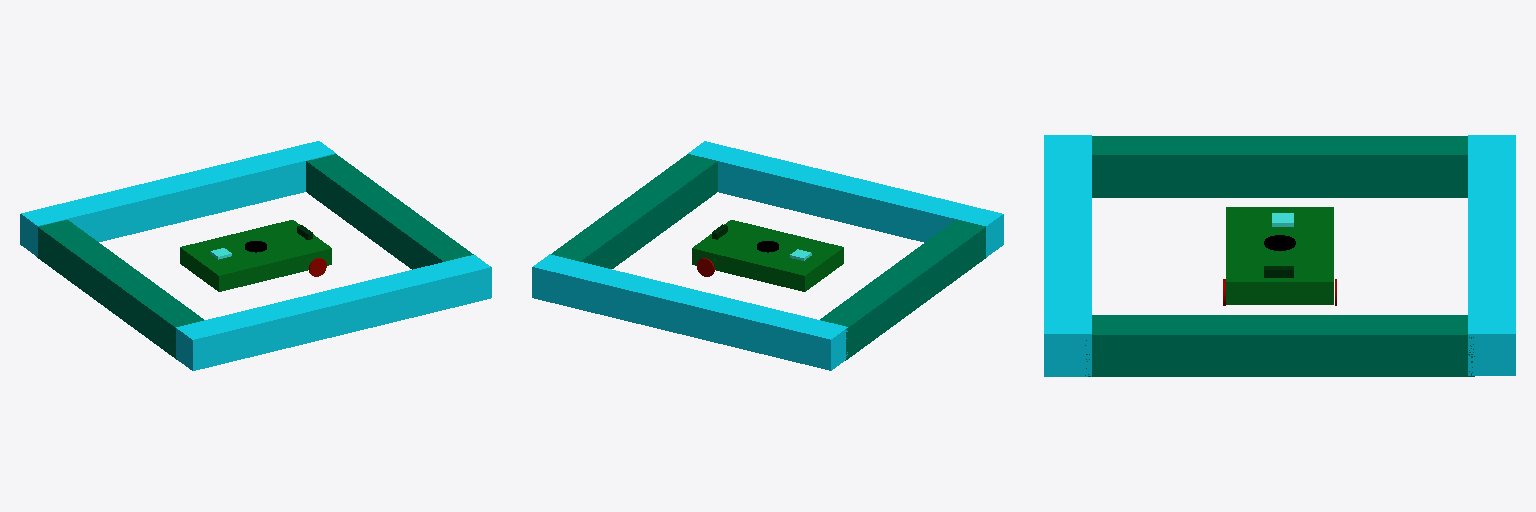
URDF robot description (Fun_Robot):

<robot name="Fun_Robot">
  <link name="base_footprint"></link>
  <joint name="base_joint" type="fixed">
    <parent link="base_footprint" />
    <child link="base_link" />
    <origin xyz="0 0 0.5" rpy="0 0 0" />
  </joint>
  <link name="base_link">
    <visual>
      <origin xyz="0 0 0" rpy="0 0 0" />
      <geometry>
        <box size="3.7939062066566853 2.2800234239081933 0.5232328098292442" />
      </geometry>
      <material name="base_link-material">
        <color rgba="0.033104766565152086 0.46778379610254284 0.12477181755144427 1" />
      </material>
    </visual>
    <collision>
      <origin xyz="0 0 0" rpy="0 0 0" />
      <geometry>
        <box size="3.7939062066566853 2.2800234239081933 0.5232328098292442" />
      </geometry>
    </collision>
    <inertial>
      <origin xyz="0 0 0" rpy="0 0 0" />
      <mass value="1" />
      <inertia ixx="0.16666666666666666" ixy="0" ixz="0" iyy="0.16666666666666666" iyz="0" izz="0.16666666666666666" />
    </inertial>
  </link>
  <joint name="base_link_to_lidar" type="fixed">
    <parent link="base_link" />
    <child link="lidar" />
    <origin xyz="0 0 0.2569669071788341" rpy="0 0 0" />
  </joint>
  <link name="lidar">
    <visual>
      <origin xyz="0 0 0" rpy="0 0 0" />
      <geometry>
        <cylinder radius="0.333099402958804" length="0.13538975482266932" />
      </geometry>
      <material name="lidar-material">
        <color rgba="0 0 0 1" />
      </material>
    </visual>
    <collision>
      <origin xyz="0 0 0" rpy="0 0 0" />
      <geometry>
        <cylinder radius="0.333099402958804" length="0.13538975482266932" />
      </geometry>
    </collision>
    <inertial>
      <origin xyz="0 0 0" rpy="0 0 0" />
      <mass value="1" />
      <inertia ixx="0.3333333333333333" ixy="0" ixz="0" iyy="0.5" iyz="0" izz="0.3333333333333333" />
    </inertial>

        <sensor type="lidar" name="lidar">
            <always_on>true</always_on>
            <update_rate>5</update_rate>
            <origin>0 0 0.2569669071788341 0 0 0</origin>
            <ray>
                <scan>
                    <horizontal>
                        <samples>360</samples>
                        <resolution>1</resolution>
                        <min_angle>0</min_angle>
                        <max_angle>6.28</max_angle>
                    </horizontal>
                    <range>
                        <min>0.12</min>
                        <max>3.5</max>
                        <resolution>0.015</resolution>
                    </range>
                </scan>
                <noise>
                    <type>gaussian</type>
                    <mean>0</mean>
                    <stddev>0.01</stddev>
                </noise>
            </ray>
        </sensor>
      </link>
  <joint name="base_link_to_wheel_right" type="continuous">
    <parent link="base_link" />
    <child link="wheel_right" />
    <origin xyz="1.39430638208543 1.1909017501403918 -0.2208471930668996" rpy="1.5707963267948963 0 0" />
    <axis xyz="0 0 1"/>
  </joint>
  <link name="wheel_right">
    <visual>
      <origin xyz="0 0 0" rpy="0 0 0" />
      <geometry>
        <cylinder radius="0.2879384563584746" length="0.05383527298985801" />
      </geometry>
      <material name="wheel_right-material">
        <color rgba="0.6375968739867731 0.04373502925049377 0.008023192982520563 1" />
      </material>
    </visual>
    <collision>
      <origin xyz="0 0 0" rpy="0 0 0" />
      <geometry>
        <cylinder radius="0.2879384563584746" length="0.05383527298985801" />
      </geometry>
    </collision>
    <inertial>
      <origin xyz="0 0 0" rpy="0 0 0" />
      <mass value="1" />
      <inertia ixx="0.3333333333333333" ixy="0" ixz="0" iyy="0.5" iyz="0" izz="0.3333333333333333" />
    </inertial>
  </link>
  <joint name="base_link_to_wheel_left" type="continuous">
    <parent link="base_link" />
    <child link="wheel_left" />
    <origin xyz="1.39430638208543 -1.1736814480844906 -0.2208471930668996" rpy="1.5707963267948963 0 0" />
    <axis xyz="0 0 1"/>
  </joint>
  <link name="wheel_left">
    <visual>
      <origin xyz="0 0 0" rpy="0 0 0" />
      <geometry>
        <cylinder radius="0.2879384563584746" length="0.05383527298985801" />
      </geometry>
      <material name="wheel_left-material">
        <color rgba="0.6375968739867731 0.04373502925049377 0.008023192982520563 1" />
      </material>
    </visual>
    <collision>
      <origin xyz="0 0 0" rpy="0 0 0" />
      <geometry>
        <cylinder radius="0.2879384563584746" length="0.05383527298985801" />
      </geometry>
    </collision>
    <inertial>
      <origin xyz="0 0 0" rpy="0 0 0" />
      <mass value="1" />
      <inertia ixx="0.3333333333333333" ixy="0" ixz="0" iyy="0.5" iyz="0" izz="0.3333333333333333" />
    </inertial>
  </link>
  <joint name="base_link_to_omniwheel" type="fixed">
    <parent link="base_link" />
    <child link="omniwheel" />
    <origin xyz="-1.3060831793408325 0 -0.3305897092162815" rpy="0 0 0" />
  </joint>
  <link name="omniwheel">
    <visual>
      <origin xyz="0 0 0" rpy="0 0 0" />
      <geometry>
        <sphere radius="0.2" />
      </geometry>
      <material name="omniwheel-material">
        <color rgba="0.14702726648767014 0.10461648408208657 0.4969329950515914 1" />
      </material>
    </visual>
    <collision>
      <origin xyz="0 0 0" rpy="0 0 0" />
      <geometry>
        <sphere radius="0.2" />
      </geometry>
    </collision>
    <inertial>
      <origin xyz="0 0 0" rpy="0 0 0" />
      <mass value="1" />
      <inertia ixx="0.4" ixy="0" ixz="0" iyy="0.4" iyz="0" izz="0.4" />
    </inertial>
  </link>
  <joint name="base_link_to_camera" type="fixed">
    <parent link="base_link" />
    <child link="camera" />
    <origin xyz="1.6256258584357346 -0.02298885073006307 0.3695319117946291" rpy="0 0 0" />
  </joint>
  <link name="camera">
    <visual>
      <origin xyz="0 0 0" rpy="0 0 0" />
      <geometry>
        <box size="0.1914947774659249 0.6346109922118176 0.19215263167384591" />
      </geometry>
      <material name="camera-material">
        <color rgba="0.015996293361446288 0.22696587349938613 0.07036009568874305 1" />
      </material>
    </visual>
    <collision>
      <origin xyz="0 0 0" rpy="0 0 0" />
      <geometry>
        <box size="0.1914947774659249 0.6346109922118176 0.19215263167384591" />
      </geometry>
    </collision>
    <inertial>
      <origin xyz="0 0 0" rpy="0 0 0" />
      <mass value="1" />
      <inertia ixx="0.16666666666666666" ixy="0" ixz="0" iyy="0.16666666666666666" iyz="0" izz="0.16666666666666666" />
    </inertial>

        <sensor name="front_camera" type="camera">
            <always_on>true</always_on>
            <update_rate>100</update_rate>
            <origin>1.6256258584357346 -0.02298885073006307 0.3695319117946291 0 0 0</origin>
            <camera>
                <horizontal_fov>1.3962634</horizontal_fov>
                <image>
                    <width>800</width>
                    <height>600</height>
                    <format>R8G8B8</format>
                </image>
                <clip>
                    <near>0.1</near>
                    <far>100</far>
                </clip>
                <noise>
                    <type>gaussian</type>
                    <mean>0.01</mean>
                </noise>
            </camera>
        </sensor>
      </link>
  <joint name="base_link_to_imu_sensor" type="fixed">
    <parent link="base_link" />
    <child link="imu_sensor" />
    <origin xyz="-1.1282184172017464 0.06064584319013511 0.17904669409114127" rpy="0 0 0" />
  </joint>
  <link name="imu_sensor">
    <visual>
      <origin xyz="0 0 0" rpy="0 0 0" />
      <geometry>
        <box size="0.46603382719539876 0.45619487184483365 0.3454197767248413" />
      </geometry>
      <material name="imu_sensor-material">
        <color rgba="0.2874408377161099 0.9559733532482866 0.913098651791473 1" />
      </material>
    </visual>
    <collision>
      <origin xyz="0 0 0" rpy="0 0 0" />
      <geometry>
        <box size="0.46603382719539876 0.45619487184483365 0.3454197767248413" />
      </geometry>
    </collision>
    <inertial>
      <origin xyz="0 0 0" rpy="0 0 0" />
      <mass value="1" />
      <inertia ixx="0.16666666666666666" ixy="0" ixz="0" iyy="0.16666666666666666" iyz="0" izz="0.16666666666666666" />
    </inertial>

        <sensor type="imu" name="imu">
            <always_on>true</always_on>
            <update_rate>100</update_rate>
            <origin>-1.1282184172017464 0.06064584319013511 0.17904669409114127 0 0 0</origin>
            <imu>
                <noise>
                    <type>gaussian</type>
                    <mean>0</mean>
                    <stddev>0</stddev>
                </noise>
            </imu>
        </sensor>
      </link>
  <joint name="base_link_to_Wall0" type="fixed">
    <parent link="base_link" />
    <child link="Wall0" />
    <origin xyz="4.5 -4.5 -0.01" rpy="0 0 0" />
  </joint>
  <link name="Wall0">
    <visual>
      <origin xyz="-4.5 0 0" rpy="0 0 0" />
      <geometry>
        <box size="10 1 1" />
      </geometry>
      <material name="Wall0-material">
        <color rgba="0.07421356837213867 0.8879231178794776 0.9911020971136257 1" />
      </material>
    </visual>
    <collision>
      <origin xyz="-4.5 0 0" rpy="0 0 0" />
      <geometry>
        <box size="1 1 1" />
      </geometry>
    </collision>
    <inertial>
      <origin xyz="-4.5 0 0" rpy="0 0 0" />
      <mass value="1" />
      <inertia ixx="0.17" ixy="0" ixz="0" iyy="0.16666666666666666" iyz="0" izz="0.16666666666666666" />
    </inertial>
  </link>
  <joint name="Wall0_to_Wall2" type="fixed">
    <parent link="Wall0" />
    <child link="Wall2" />
    <origin xyz="-9 4.5 -0.01" rpy="0 0 0" />
  </joint>
  <link name="Wall2">
    <visual>
      <origin xyz="0 0 0" rpy="0 0 0" />
      <geometry>
        <box size="1 8.3 1" />
      </geometry>
      <material name="Wall2-material">
        <color rgba="0.0018211619011764706 0.5332764040016892 0.407240211891531 1" />
      </material>
    </visual>
    <collision>
      <origin xyz="0 0 0" rpy="0 0 0" />
      <geometry>
        <box size="1 1 1" />
      </geometry>
    </collision>
    <inertial>
      <origin xyz="0 0 0" rpy="0 0 0" />
      <mass value="1" />
      <inertia ixx="0.16666666666666666" ixy="0" ixz="0" iyy="0.16666666666666666" iyz="0" izz="0.16666666666666666" />
    </inertial>
  </link>
  <joint name="Wall0_to_Wall1" type="fixed">
    <parent link="Wall0" />
    <child link="Wall1" />
    <origin xyz="0 9 0.010000000000000009" rpy="0 0 0" />
  </joint>
  <link name="Wall1">
    <visual>
      <origin xyz="-4.5 0 0.001" rpy="0 0 0" />
      <geometry>
        <box size="10 1 1" />
      </geometry>
      <material name="Wall1-material">
        <color rgba="0.07421356837213867 0.8879231178794776 0.9911020971136257 1" />
      </material>
    </visual>
    <collision>
      <origin xyz="-4.5 0 0.001" rpy="0 0 0" />
      <geometry>
        <box size="1 1 1" />
      </geometry>
    </collision>
    <inertial>
      <origin xyz="-4.5 0 0.001" rpy="0 0 0" />
      <mass value="1" />
      <inertia ixx="0.17" ixy="0" ixz="0" iyy="0.16666666666666666" iyz="0" izz="0.16666666666666666" />
    </inertial>
  </link>
  <joint name="Wall0_to_Wall3" type="fixed">
    <parent link="Wall0" />
    <child link="Wall3" />
    <origin xyz="0 4.5 -0.01" rpy="0 0 0" />
  </joint>
  <link name="Wall3">
    <visual>
      <origin xyz="0 0 0" rpy="0 0 0" />
      <geometry>
        <box size="1 8.3 1" />
      </geometry>
      <material name="Wall3-material">
        <color rgba="0.0018211619011764706 0.5332764040016892 0.407240211891531 1" />
      </material>
    </visual>
    <collision>
      <origin xyz="0 0 0" rpy="0 0 0" />
      <geometry>
        <box size="1 1 1" />
      </geometry>
    </collision>
    <inertial>
      <origin xyz="0 0 0" rpy="0 0 0" />
      <mass value="1" />
      <inertia ixx="0.16666666666666666" ixy="0" ixz="0" iyy="0.16666666666666666" iyz="0" izz="0.16666666666666666" />
    </inertial>
  </link>
</robot>

--- Facts derived from the render (not from the file) ---
The picture shows the robot from 3 angles, left to right: view 1: azimuth 30°, elevation 25°; view 2: azimuth 150°, elevation 25°; view 3: azimuth 270°, elevation 25°; orthographic projection.
Model Fun_Robot with 12 links and 11 joints (2 continuous, 9 fixed), rooted at base_footprint, posed all joints at 0.
Links seen in each view (by area): view 1: Wall0, Wall1, Wall2, Wall3, base_link; view 2: Wall1, Wall0, Wall2, Wall3, base_link; view 3: Wall3, Wall2, Wall0, Wall1, base_link.
Link boxes in pixels (box(x1,y1,x2,y2)): Wall0: box(176, 255, 491, 370); Wall1: box(20, 141, 335, 256); Wall2: box(37, 220, 203, 359); Wall3: box(306, 154, 473, 269); base_link: box(180, 220, 331, 291); Wall1: box(532, 254, 847, 370); Wall0: box(688, 141, 1003, 257); Wall2: box(820, 220, 985, 360); Wall3: box(551, 154, 717, 268); base_link: box(692, 220, 843, 291); Wall3: box(1085, 315, 1474, 376); Wall2: box(1092, 136, 1467, 197); Wall0: box(1044, 135, 1091, 376); Wall1: box(1468, 135, 1515, 375); base_link: box(1226, 207, 1333, 304).
Bounding box of the posed robot: 10 × 10 × 1.03 m (x, y, z).
Geometry: primitives only (box / cylinder / sphere), no mesh files.